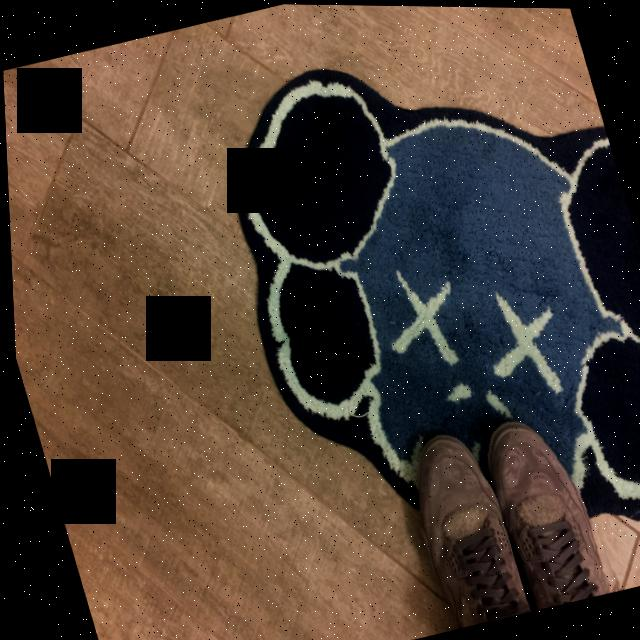shoe: (380, 417, 532, 632), (470, 399, 623, 611)
